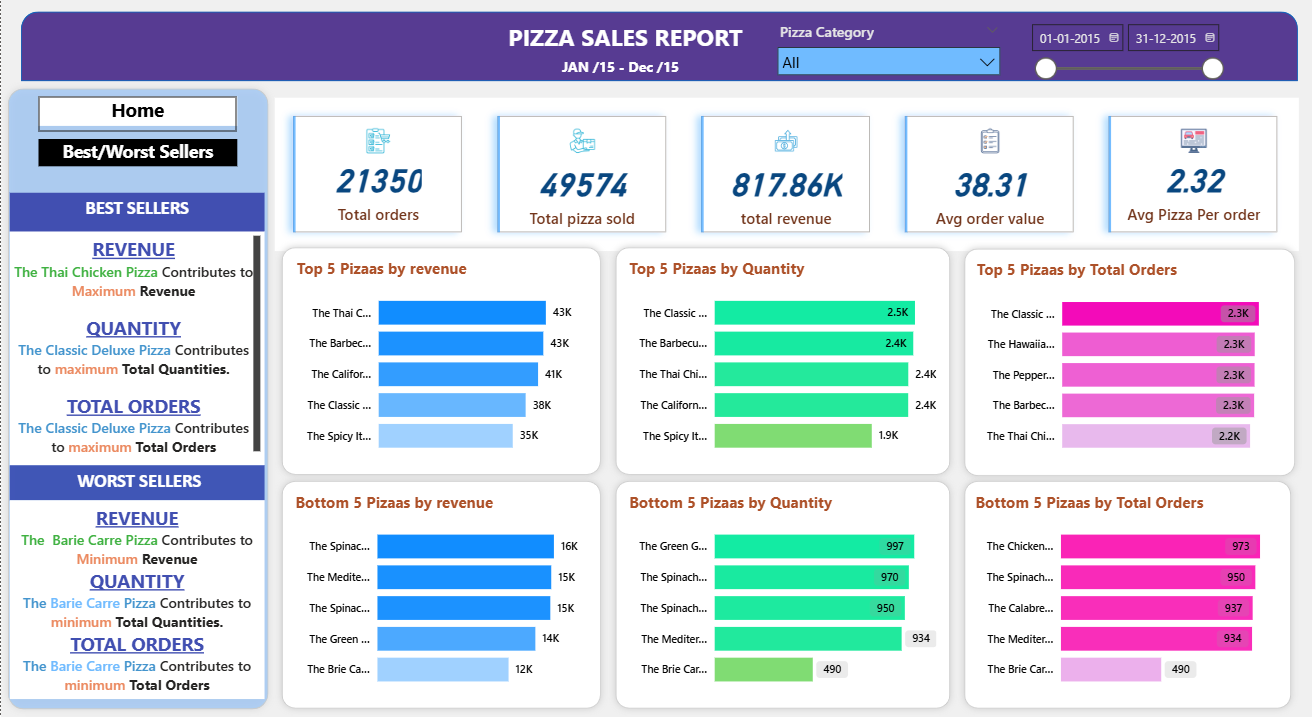

The page's visual inventory and layout, read from the dashboard file:
{"tool":"powerbi","page":{"name":"Best/Worst Sellers","canvas":[1500,820],"ordinal":1},"visuals":[{"type":"shape","box":[0,94,313.4,725.4],"z":0},{"type":"cardVisual","fields":{"Data":["pizza_sales (1).Total orders","pizza_sales (1).Total pizza sold","pizza_sales (1).total revenue","pizza_sales (1).Avg order value","pizza_sales (1).Avg Pizza Per order"]},"box":[312.5,112.5,1170.3,175],"z":1000},{"type":"shape","box":[23.4,14.1,1459.4,79.7],"z":2000},{"type":"textbox","box":[545.3,20.3,335.9,54.7],"z":3000},{"type":"textbox","box":[635.8,61.2,144.8,32.8],"z":4000},{"type":"shape","box":[313.4,276.1,380.6,276.1],"z":5000},{"type":"textbox","box":[10.4,220.9,291,44.8],"z":6000},{"type":"textbox","box":[10.4,265.7,291,267.2],"z":7000},{"type":"textbox","box":[10.4,532.8,291,40.3],"z":8000},{"type":"textbox","box":[10.4,573.1,291,226.9],"z":9000},{"type":"slicer","fields":{"Values":["pizza_sales (1).pizza_category"]},"box":[877.6,20.9,274.6,71.6],"z":10000},{"type":"slicer","fields":{"Values":["pizza_sales (1).order_date"]},"box":[1165.7,17.9,240.3,74.6],"z":11000},{"type":"shape","box":[1092.5,277.6,394,276.1],"z":12000},{"type":"shape","box":[694,276.1,398.5,276.1],"z":13000},{"type":"shape","box":[313.4,543.3,380.6,276.1],"z":14000},{"type":"shape","box":[694,543.3,398.5,276.1],"z":15000},{"type":"shape","box":[1092.5,543.3,389.6,276.1],"z":16000},{"type":"barChart","title":"Top 5 Pizaas by revenue ","fields":{"Category":["pizza_sales (1).pizza_name"],"Y":["pizza_sales (1).total revenue"]},"box":[332.8,295.5,344.8,237.3],"z":17000},{"type":"barChart","title":"Bottom 5 Pizaas by revenue","fields":{"Category":["pizza_sales (1).pizza_name"],"Y":["pizza_sales (1).total revenue"]},"box":[331.3,562.7,344.8,237.3],"z":18000},{"type":"barChart","title":"Top 5 Pizaas by Quantity","fields":{"Category":["pizza_sales (1).pizza_name"],"Y":["pizza_sales (1).Total pizza sold"]},"box":[713.4,295.5,361.2,237.3],"z":19000},{"type":"barChart","title":"Bottom 5 Pizaas by Quantity","fields":{"Category":["pizza_sales (1).pizza_name"],"Y":["pizza_sales (1).Total pizza sold"]},"box":[713.4,562.7,361.2,237.3],"z":20000},{"type":"barChart","title":"Top 5 Pizaas by Total Orders","fields":{"Category":["pizza_sales (1).pizza_name"],"Y":["pizza_sales (1).Total orders"]},"box":[1110.4,297,358.2,235.8],"z":21000},{"type":"barChart","title":"Bottom 5 Pizaas by Total Orders","fields":{"Category":["pizza_sales (1).pizza_name"],"Y":["pizza_sales (1).Total pizza sold"]},"box":[1109,562.7,361.2,237.3],"z":22000},{"type":"actionButton","title":"Home","box":[43.3,111.9,226.9,38.8],"z":23000},{"type":"actionButton","title":"Best/Worst Sellers","box":[43.3,159.7,226.9,40.3],"z":24000}]}

Visuals, with their boxes in screenshot pixels (x1, y1, x2, y2), scaled from the page's 1500x820 canvas onto the 1312x717 screenshot:
shape: bbox(0, 82, 274, 716)
cardVisual - pizza_sales (1).Total orders x pizza_sales (1).Total pizza sold: bbox(273, 98, 1297, 251)
shape: bbox(20, 12, 1297, 82)
textbox: bbox(477, 18, 771, 66)
textbox: bbox(556, 54, 683, 82)
shape: bbox(274, 241, 607, 483)
textbox: bbox(9, 193, 264, 232)
textbox: bbox(9, 232, 264, 466)
textbox: bbox(9, 466, 264, 501)
textbox: bbox(9, 501, 264, 700)
slicer - pizza_sales (1).pizza_category: bbox(768, 18, 1008, 81)
slicer - pizza_sales (1).order_date: bbox(1020, 16, 1230, 81)
shape: bbox(956, 243, 1300, 484)
shape: bbox(607, 241, 956, 483)
shape: bbox(274, 475, 607, 716)
shape: bbox(607, 475, 956, 716)
shape: bbox(956, 475, 1296, 716)
"Top 5 Pizaas by revenue " barChart: bbox(291, 258, 593, 466)
"Bottom 5 Pizaas by revenue" barChart: bbox(290, 492, 591, 700)
"Top 5 Pizaas by Quantity" barChart: bbox(624, 258, 940, 466)
"Bottom 5 Pizaas by Quantity" barChart: bbox(624, 492, 940, 700)
"Top 5 Pizaas by Total Orders" barChart: bbox(971, 260, 1285, 466)
"Bottom 5 Pizaas by Total Orders" barChart: bbox(970, 492, 1286, 700)
"Home" actionButton: bbox(38, 98, 236, 132)
"Best/Worst Sellers" actionButton: bbox(38, 140, 236, 175)
